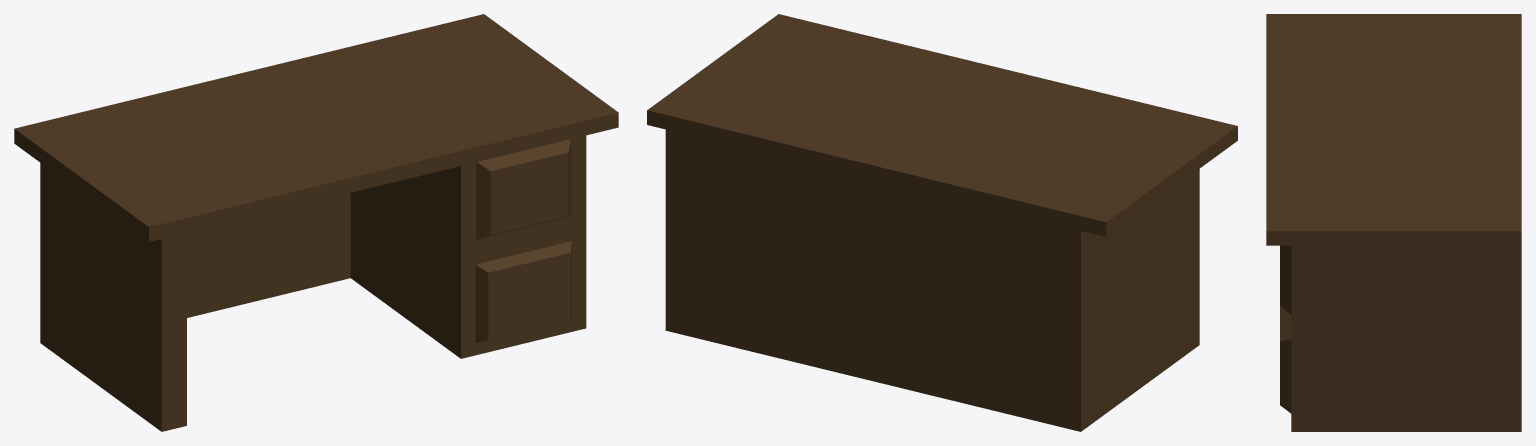
Rendered from Desk.fbx.
The picture shows the model from 3 angles, left to right: view 1: azimuth 30°, elevation 25°; view 2: azimuth 150°, elevation 25°; view 3: azimuth 270°, elevation 25°; orthographic projection. The views are drawn at different scales.
Visible parts, largest first — view 1: Cube; view 2: Cube; view 3: Cube.
Boxes of the visible parts, x1,y1,x2,y2 form: Cube: (14, 14, 618, 431); Cube: (647, 14, 1237, 431); Cube: (1266, 14, 1521, 431).
Size of the model in its own units: 597 by 268 by 296.
